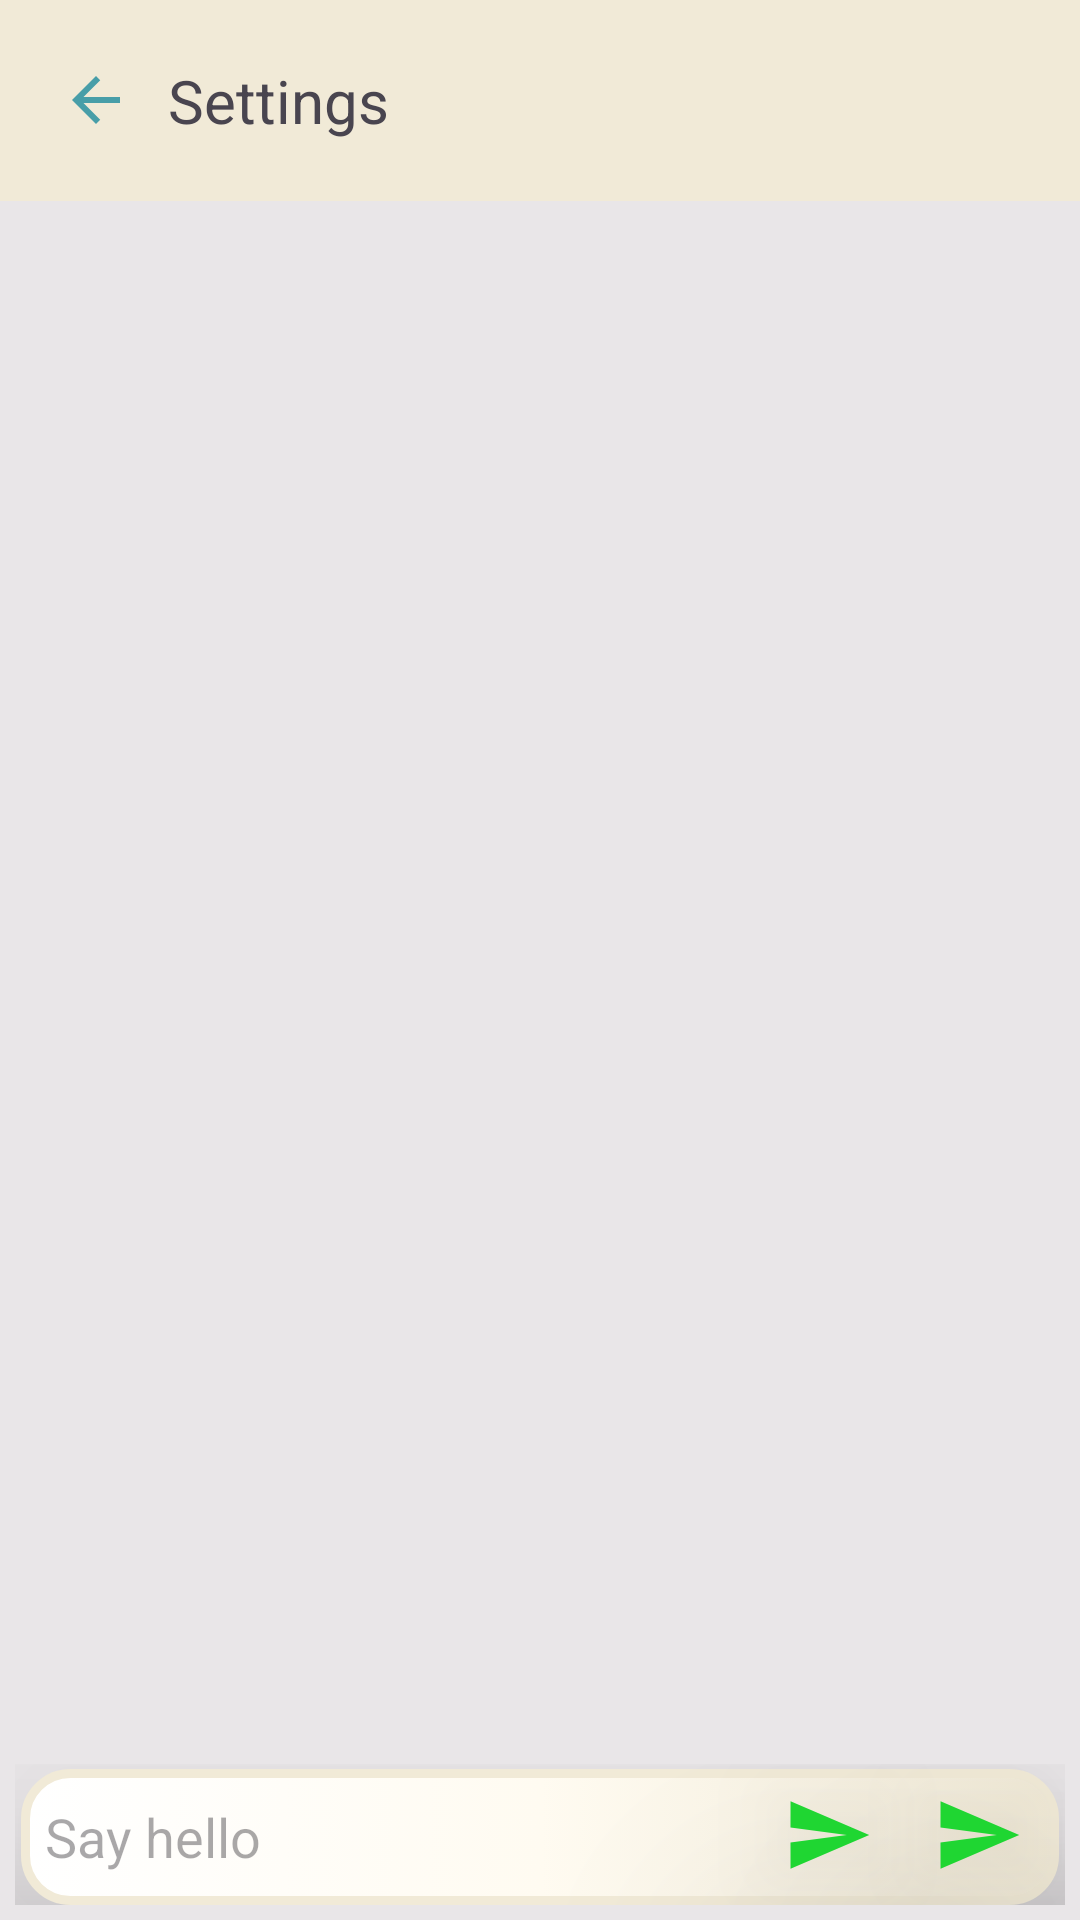

Where icons sit on this 1080*1920 app screen, as box=[x1, y1, x2, y2]:
arrow back: box=[72, 76, 120, 124]
send: box=[747, 1765, 909, 1905], box=[897, 1801, 1059, 1905]
